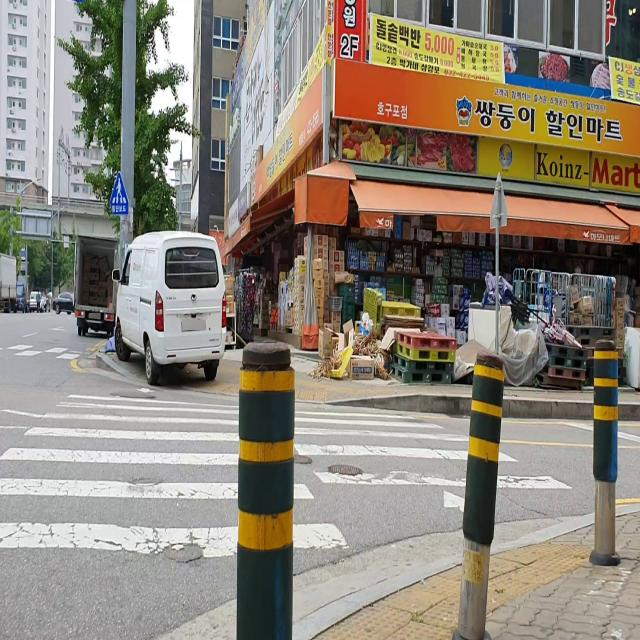횡단보도: (0, 384, 574, 564)
